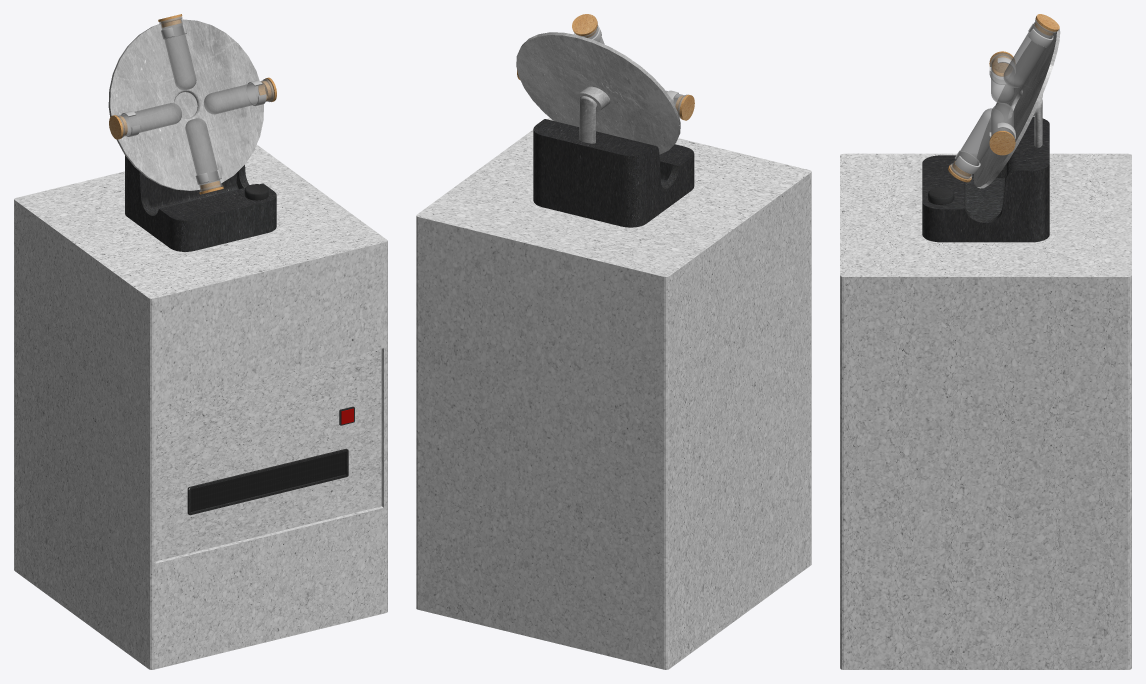
The model's file is Machine.fbx.
3 renders of one model, left to right at view 1: azimuth 30°, elevation 25°; view 2: azimuth 150°, elevation 25°; view 3: azimuth 270°, elevation 25°, orthographic. The views are drawn at different scales.
Parts seen in each view (by area): view 1: Cube, Rotator, Stand, Cube.003, TestTube.002, TestTube.003, TestTube, Cube.004, TestTube.001; view 2: Cube, Rotator, Stand; view 3: Cube, Stand, Rotator, TestTube.003, TestTube.002, TestTube.001, TestTube, Cap.
Boxes of the visible parts, x1,y1,x2,y2 form: Cube: (14, 144, 387, 669); Rotator: (108, 19, 263, 190); Stand: (125, 155, 276, 251); Cube.003: (190, 452, 345, 511); TestTube.002: (159, 16, 196, 90); TestTube.003: (185, 118, 222, 191); TestTube: (204, 78, 274, 114); Cube.004: (187, 448, 348, 515); TestTube.001: (116, 103, 181, 137); Cube: (416, 117, 811, 669); Rotator: (516, 32, 680, 154); Stand: (533, 119, 694, 227); Cube: (840, 153, 1131, 669); Stand: (922, 117, 1049, 242); Rotator: (973, 28, 1060, 188); TestTube.003: (950, 108, 1003, 179); TestTube.002: (1003, 19, 1056, 87); TestTube.001: (990, 53, 1014, 103); TestTube: (991, 103, 1013, 136); Cap: (989, 130, 1015, 155).
Bounding box in the file's own units: 80 × 179 × 80.
